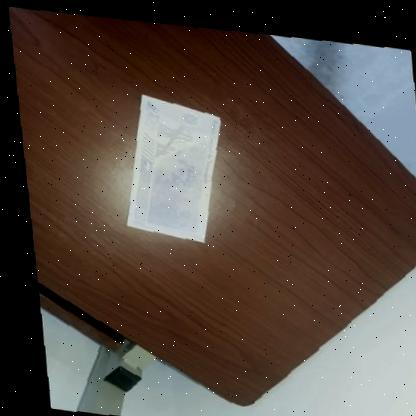two_hundred-back-vef: (109, 85, 230, 242)
